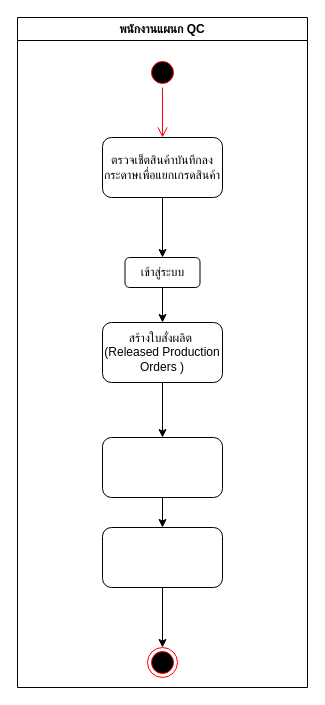
The diagram is 325 pixels wide and 705 high, and some of its shapes have lost their labels. Here are the shapes that lost their labels. From the top down, the centre of each, then its label:
At pixel 162 467: "บันทึกการเบิกของเข้าการผลิต ( Consumption Journal)".
At pixel 162 557: "บันทึกผลการผลิตที่ได้จากการผลิต (Output Journal)".
